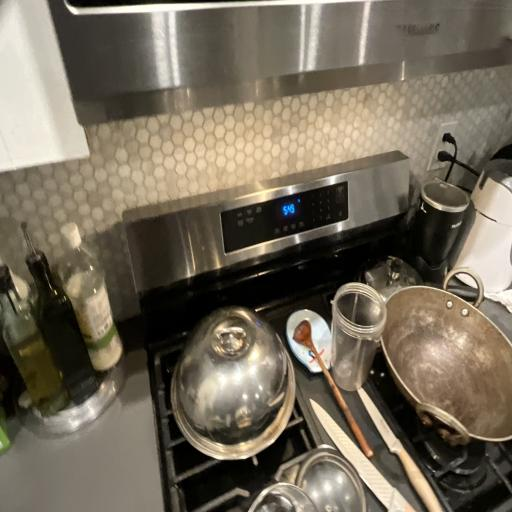Pan: (350, 252, 512, 454)
Stove: (115, 197, 511, 512)
knife: (296, 381, 416, 512), (349, 368, 455, 512)
